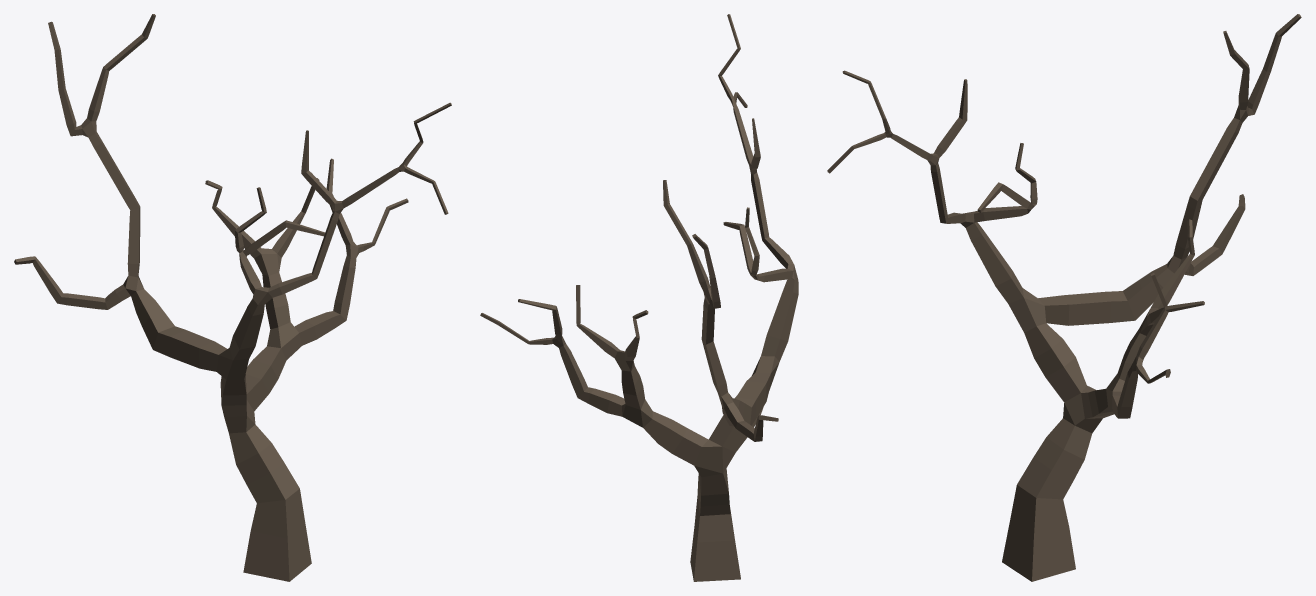
File: TreeWithoutLeafs.fbx
3 renders of one model, left to right at view 1: azimuth 30°, elevation 25°; view 2: azimuth 150°, elevation 25°; view 3: azimuth 270°, elevation 25°, orthographic. The views are drawn at different scales.
Visible parts, largest first — view 1: Cube; view 2: Cube; view 3: Cube.
Part boxes in pixels (bbox=[...]): Cube: bbox=[14, 14, 451, 581]; Cube: bbox=[480, 14, 798, 581]; Cube: bbox=[827, 14, 1301, 581].
Bounding box in the file's own units: 433 × 597 × 479.
